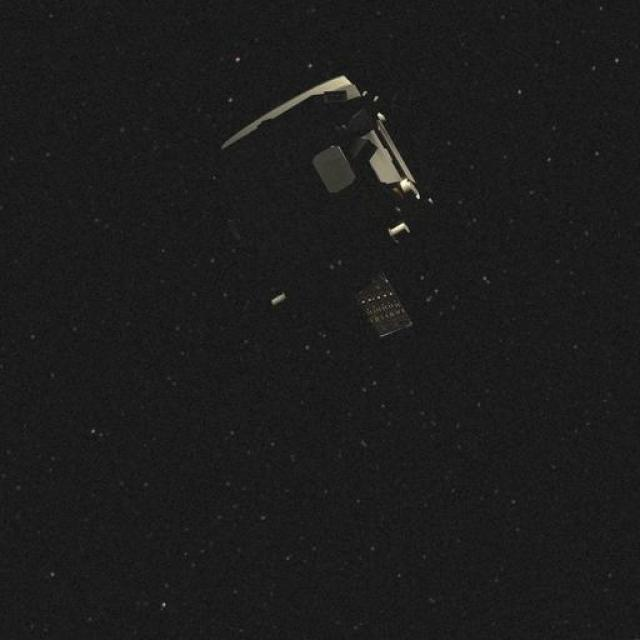proba_3_csc: (168, 58, 500, 365)
